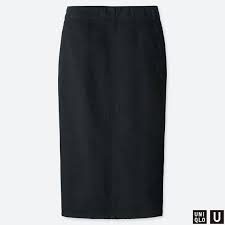F_tailored skirt: (52, 3, 177, 222)
